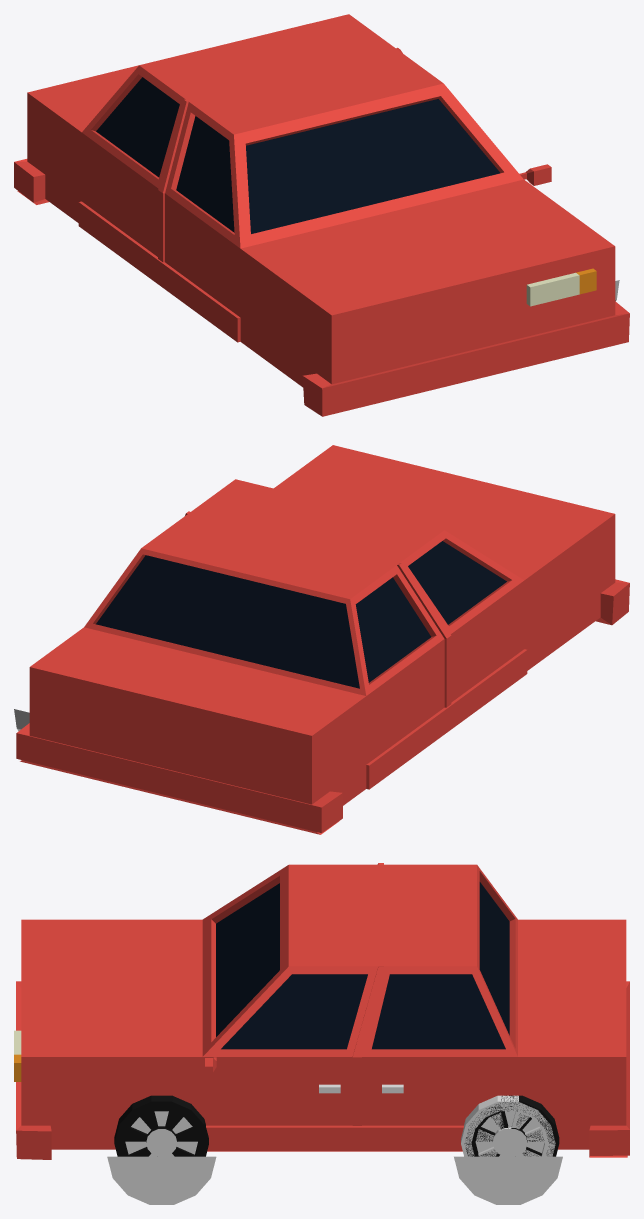
File: car.glb
3 renders of one model, top to bottom at view 1: azimuth 30°, elevation 25°; view 2: azimuth 150°, elevation 25°; view 3: azimuth 270°, elevation 25°, orthographic.
Parts seen in each view (by area): view 1: Cube, Cube.001; view 2: Cube; view 3: Cube, Cylinder.001, Cylinder.003, Cylinder.002, Cylinder, Cylinder.004.
Part boxes in pixels (box(x1,y1,x2,y2)): Cube: box(14, 14, 629, 416); Cube.001: box(526, 268, 596, 306); Cube: box(16, 445, 629, 834); Cube: box(16, 863, 629, 1159); Cylinder.001: box(114, 1095, 208, 1156); Cylinder.003: box(461, 1095, 555, 1156); Cylinder.002: box(454, 1156, 562, 1204); Cylinder: box(107, 1156, 216, 1204); Cylinder.004: box(464, 1095, 559, 1156).
Size of the model in its own units: 2.43 by 1.34 by 3.79.
